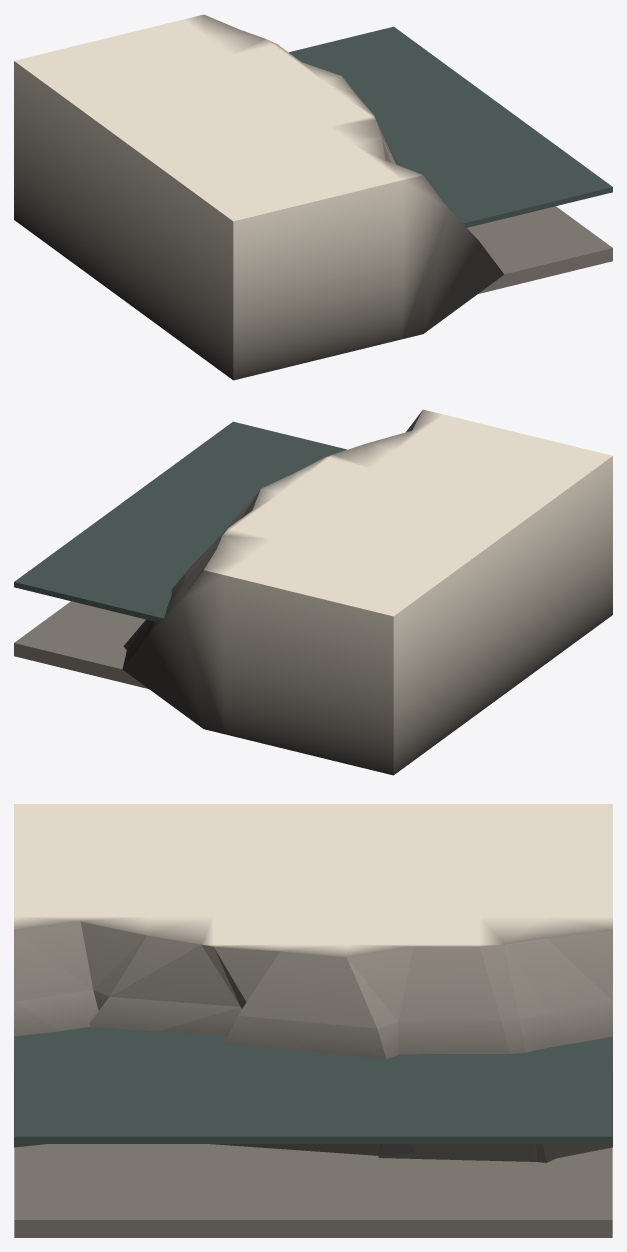
The model's file is SM_VKI_Ground_Stream_OXXO_Q11.fbx.
3 renders of one model, top to bottom at view 1: azimuth 30°, elevation 25°; view 2: azimuth 150°, elevation 25°; view 3: azimuth 270°, elevation 25°, orthographic. The views are drawn at different scales.
Visible parts, largest first — view 1: SM_VKI_Ground_Stream_OXXO_Q11.001; view 2: SM_VKI_Ground_Stream_OXXO_Q11.001; view 3: SM_VKI_Ground_Stream_OXXO_Q11.001.
Part boxes in pixels (bbox=[...]): SM_VKI_Ground_Stream_OXXO_Q11.001: bbox=[14, 14, 612, 380]; SM_VKI_Ground_Stream_OXXO_Q11.001: bbox=[14, 409, 612, 775]; SM_VKI_Ground_Stream_OXXO_Q11.001: bbox=[14, 804, 612, 1237].
Size of the model in its own units: 1.5 by 0.6 by 1.5.
